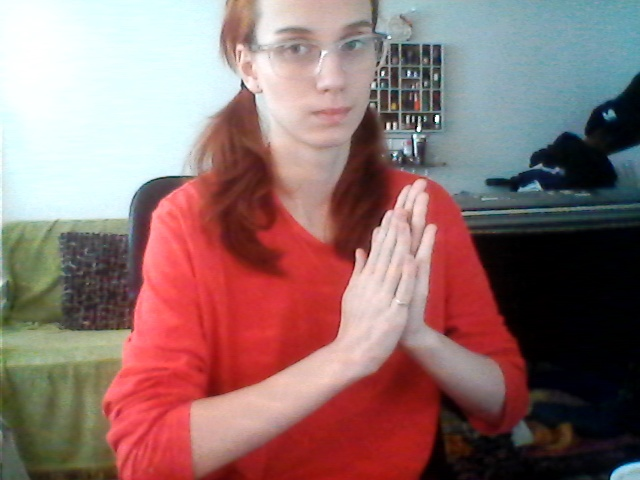prosim: (296, 175, 459, 401)
